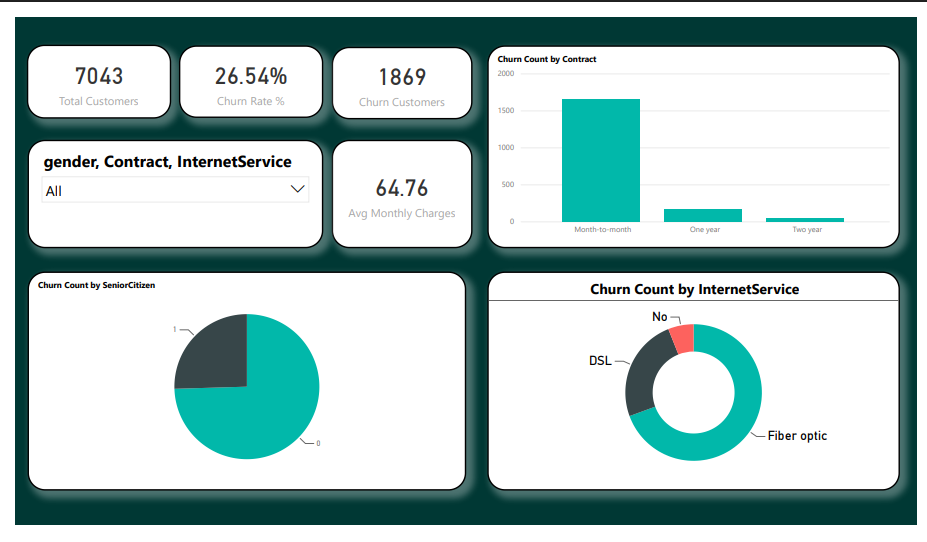

What the dashboard file says about the page in this screenshot:
{"tool":"powerbi","page":{"name":"Page 1","canvas":[1280,720],"ordinal":0},"visuals":[{"type":"card","fields":{"Values":["OG dataset.Total Customers"]},"box":[17.4,38.4,204.7,105],"z":0},{"type":"card","fields":{"Values":["OG dataset.Churn Customers"]},"box":[450.3,40.9,199.3,103.2],"z":1000},{"type":"card","fields":{"Values":["OG dataset.Churn Rate %"]},"box":[233.2,39.2,204.7,103.2],"z":2000},{"type":"card","fields":{"Values":["OG dataset.Avg Monthly Charges"]},"box":[450.3,172.6,199.3,154.8],"z":3000},{"type":"clusteredColumnChart","fields":{"Category":["OG dataset.Contract"],"Y":["OG dataset.Churn Count"]},"box":[671,39.2,585.5,288.3],"z":4000},{"type":"donutChart","fields":{"Category":["OG dataset.InternetService"],"Y":["OG dataset.Churn Count"]},"box":[671,359.5,585.5,311.5],"z":5000},{"type":"pieChart","fields":{"Category":["OG dataset.SeniorCitizen"],"Y":["OG dataset.Churn Count"]},"box":[17.8,359.5,622.9,311.5],"z":6000},{"type":"slicer","fields":{"Values":["OG dataset.gender","OG dataset.Contract","OG dataset.InternetService"]},"box":[17.8,172.6,420,154.8],"z":7000}]}

Visuals, with their boxes in screenshot pixels (x1, y1, x2, y2):
card - OG dataset.Total Customers: 15,42,161,117
card - OG dataset.Churn Customers: 324,44,466,117
card - OG dataset.Churn Rate %: 169,42,315,116
card - OG dataset.Avg Monthly Charges: 324,138,466,248
clusteredColumnChart - OG dataset.Contract x OG dataset.Churn Count: 482,42,900,248
donutChart - OG dataset.InternetService x OG dataset.Churn Count: 482,271,900,494
pieChart - OG dataset.SeniorCitizen x OG dataset.Churn Count: 15,271,460,494
slicer - OG dataset.gender x OG dataset.Contract: 15,138,315,248
